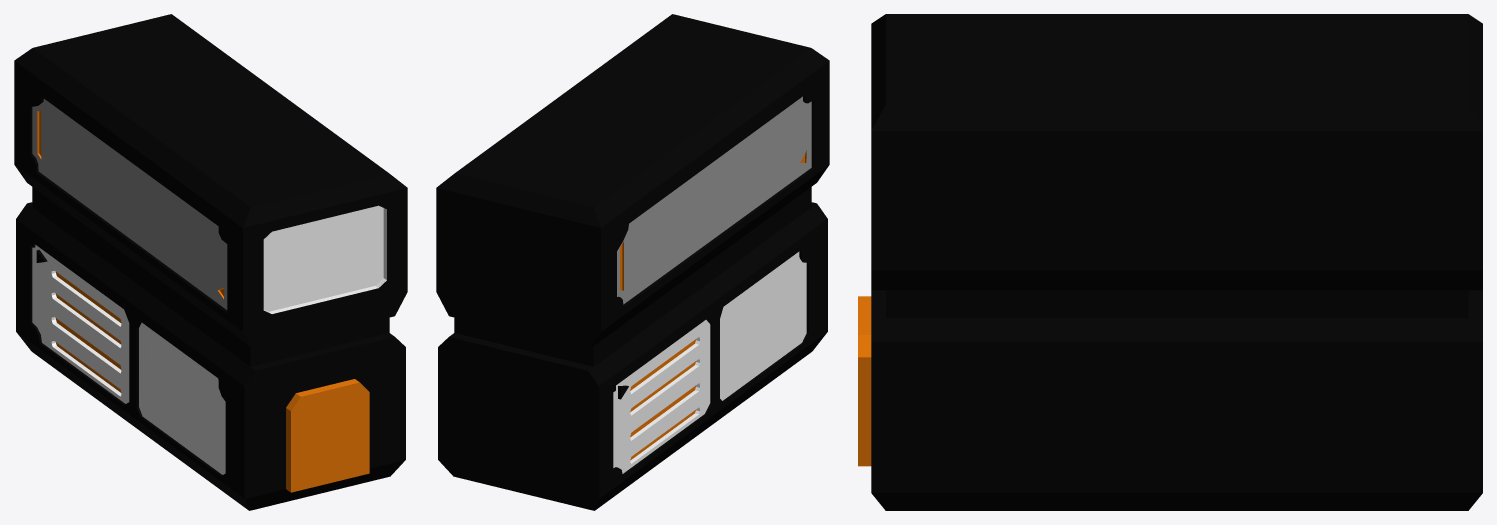
The picture shows the model from 3 angles, left to right: view 1: azimuth 30°, elevation 25°; view 2: azimuth 150°, elevation 25°; view 3: azimuth 270°, elevation 25°; orthographic projection. The views are drawn at different scales.
Parts seen in each view (by area): view 1: box_lp; view 2: box_lp; view 3: box_lp.
Boxes of the visible parts, bbox=[...] form: box_lp: bbox=[14, 14, 407, 510]; box_lp: bbox=[436, 14, 829, 510]; box_lp: bbox=[858, 14, 1482, 510].
Bounding box in the file's own units: 82.48 × 145 × 203.
1 material, 1 textured.
